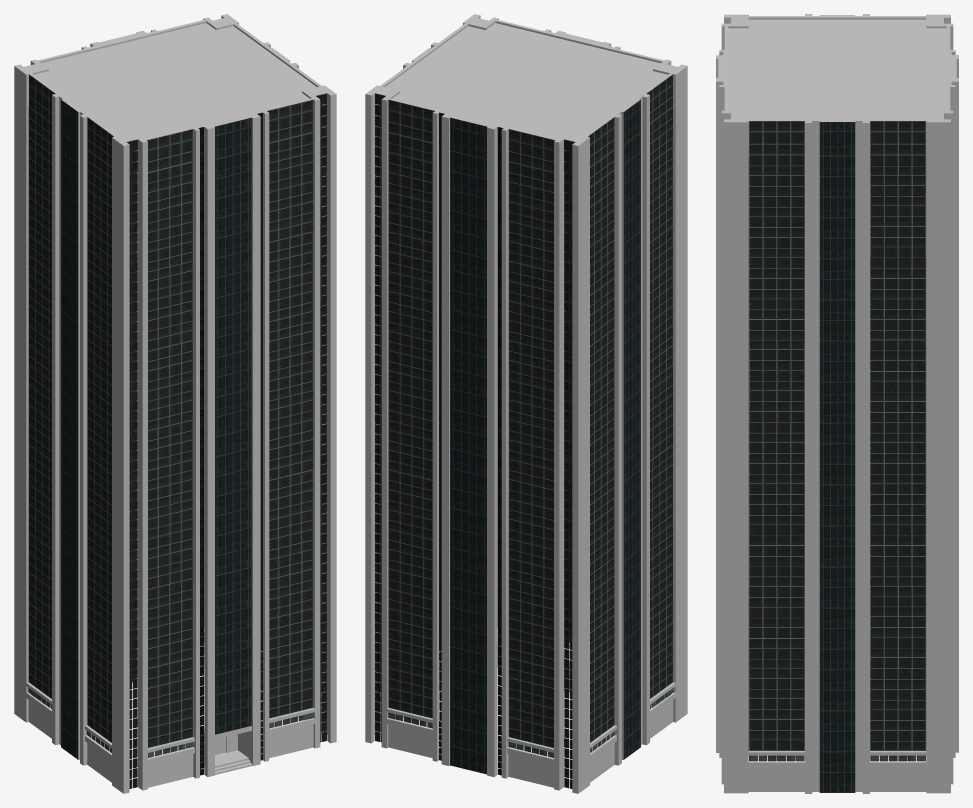
3 views of the same model, side by side, from view 1: azimuth 30°, elevation 25°; view 2: azimuth 150°, elevation 25°; view 3: azimuth 270°, elevation 25° (orthographic). The views are drawn at different scales.
Parts seen in each view (by area): view 1: Building; view 2: Building; view 3: Building.
Boxes of the visible parts, x1,y1,x2,y2 form: Building: [14, 14, 336, 793]; Building: [365, 14, 687, 793]; Building: [716, 14, 958, 793].
Size of what is drawn, in the model's own units: 34.13 by 98 by 32.13.
